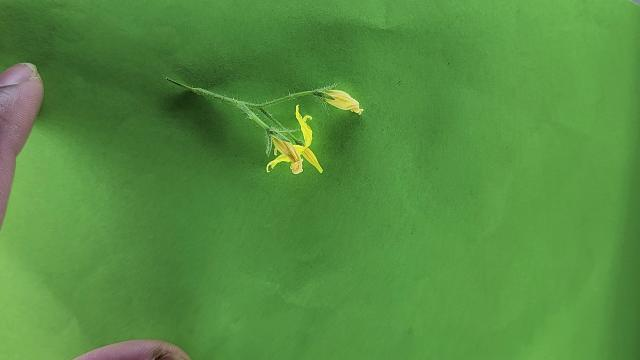Anthesis: (266, 104, 324, 177), (315, 87, 364, 116)
